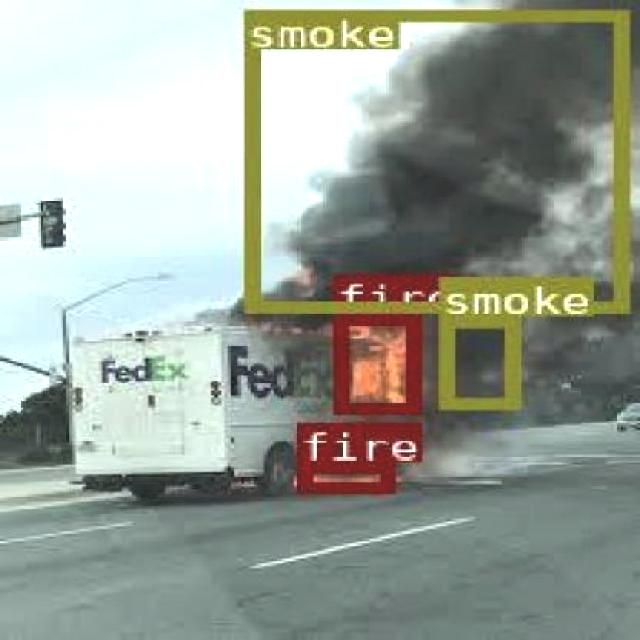fire: (333, 313, 419, 412), (294, 459, 392, 490)
smoke: (242, 8, 626, 310), (438, 314, 518, 408)
